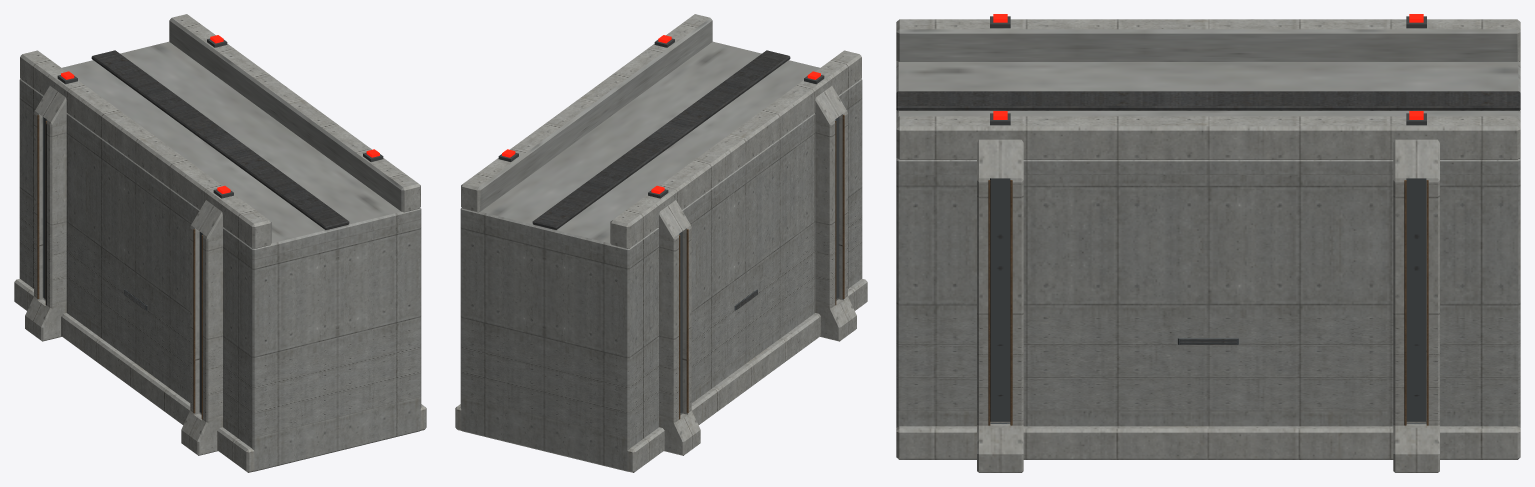
File: straight.glb
3 views of the same model, side by side, from view 1: azimuth 30°, elevation 25°; view 2: azimuth 150°, elevation 25°; view 3: azimuth 270°, elevation 25° (orthographic). The views are drawn at different scales.
Visible parts, largest first — view 1: straight-lod0-roof0, straight-lod0-base0, straight-lod0-floor0; view 2: straight-lod0-roof0, straight-lod0-base0, straight-lod0-floor0; view 3: straight-lod0-roof0, straight-lod0-base0, straight-lod0-floor0.
Part boxes in pixels (x1,y1,x2,y2): straight-lod0-roof0: [19, 14, 421, 260]; straight-lod0-base0: [14, 196, 426, 472]; straight-lod0-floor0: [19, 90, 421, 366]; straight-lod0-roof0: [460, 14, 862, 260]; straight-lod0-base0: [455, 196, 867, 472]; straight-lod0-floor0: [460, 90, 862, 366]; straight-lod0-roof0: [896, 14, 1520, 185]; straight-lod0-base0: [896, 315, 1520, 472]; straight-lod0-floor0: [896, 174, 1520, 326].
Size of what is drawn, in the model's own units: 38.8 by 42.97 by 72.
7 materials, 5 textured.
